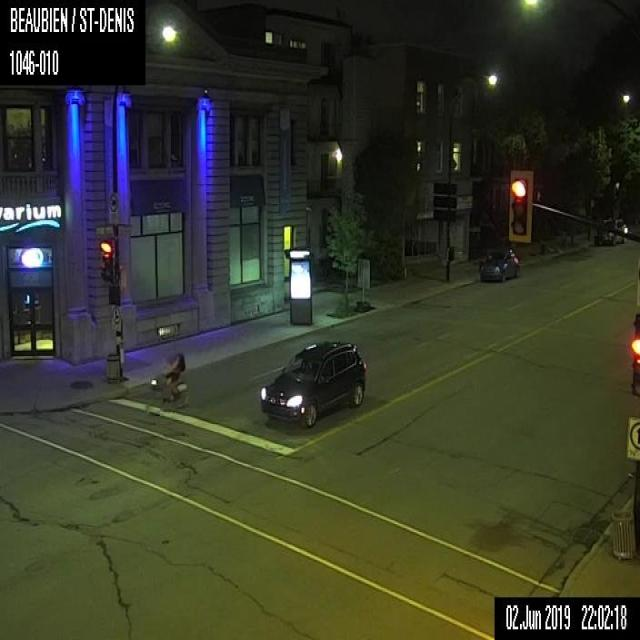cyclist: (145, 343, 189, 412)
vehicle: (260, 340, 366, 428), (479, 247, 520, 281), (593, 218, 626, 244)
